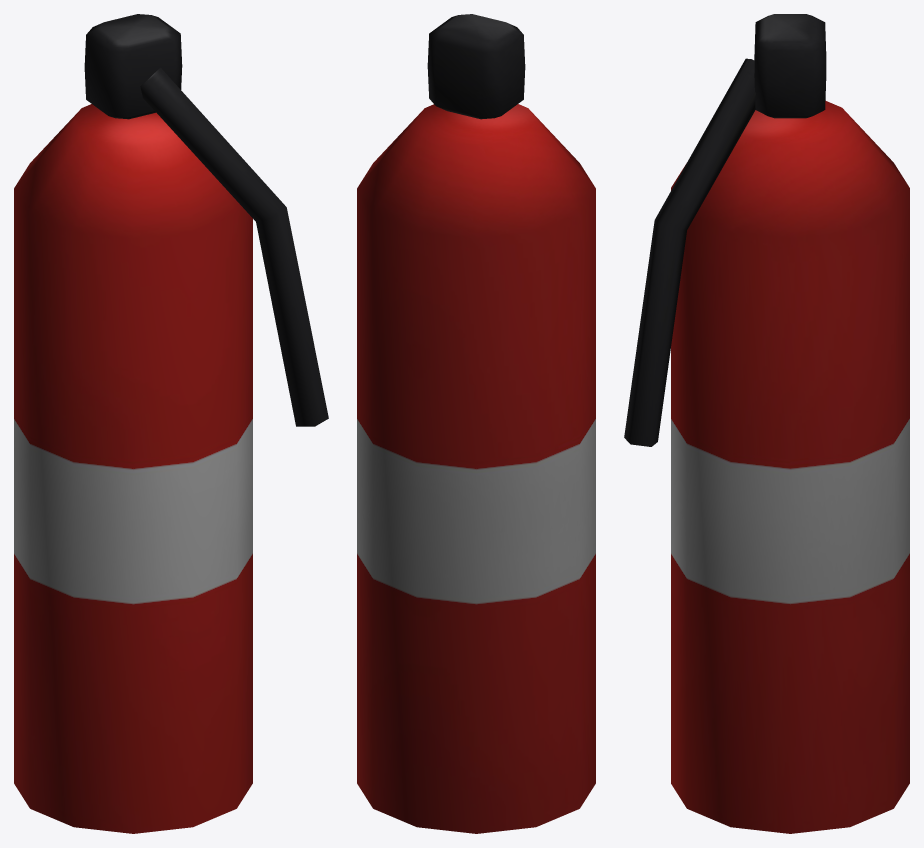
The model's file is extincteur.glb.
3 views of the same model, side by side, from view 1: azimuth 30°, elevation 25°; view 2: azimuth 150°, elevation 25°; view 3: azimuth 270°, elevation 25° (orthographic).
Parts seen in each view (by area): view 1: extincteur; view 2: extincteur; view 3: extincteur.
Boxes of the visible parts, x1,y1,x2,y2 form: extincteur: [14, 14, 328, 833]; extincteur: [357, 14, 595, 833]; extincteur: [624, 14, 909, 833].
Size of the model in its own units: 0.1697 by 0.57 by 0.1913.
Materials: 1 (1 with a texture image).
